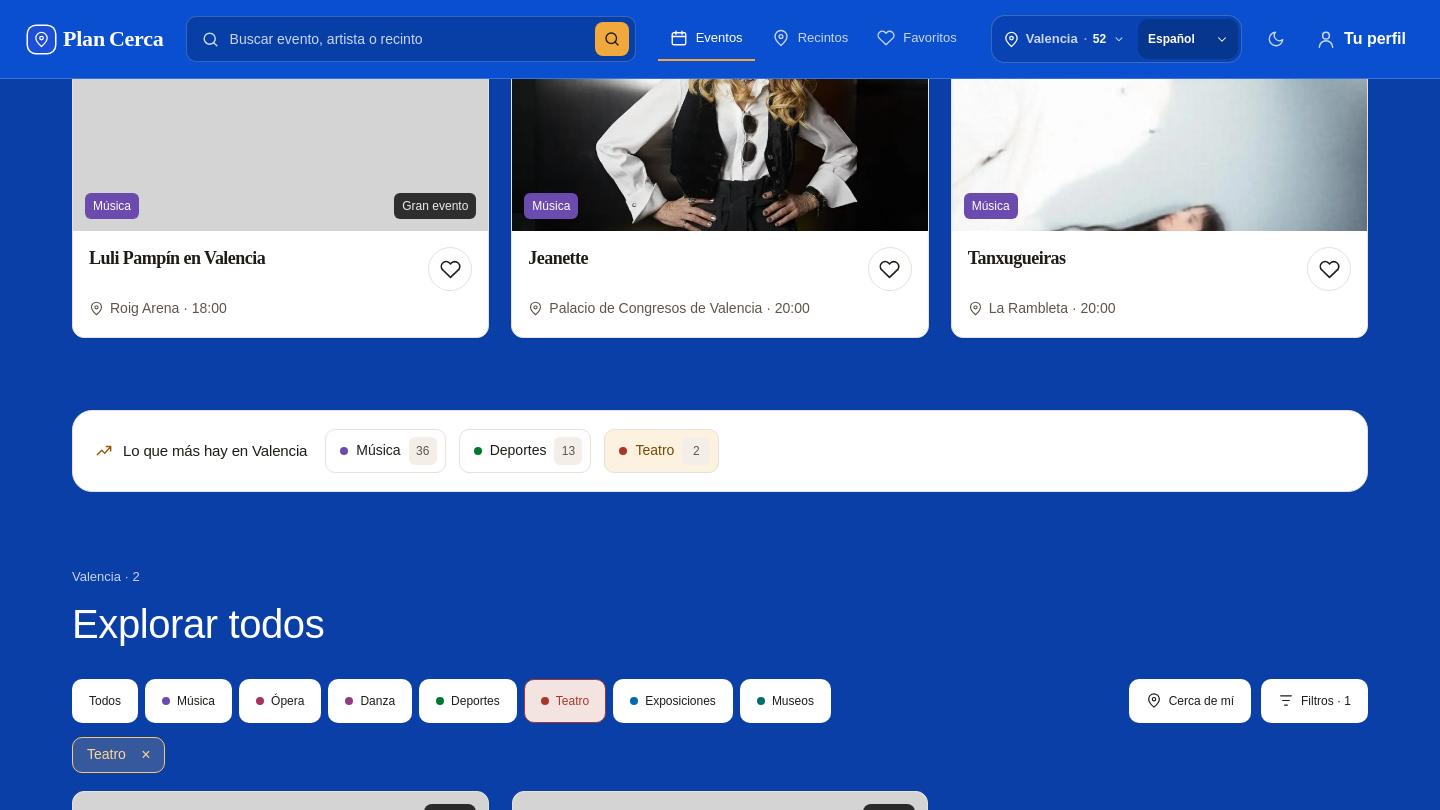
it: «Lo que más hay» shortcuts › apply that category alone (replacing others) in one step
The width and height of the screenshot is (1440, 810).
(page scrolled)
Step 1. Click the button "Música 36" → (386, 451), box [325,429,446,473]
(page scrolled)
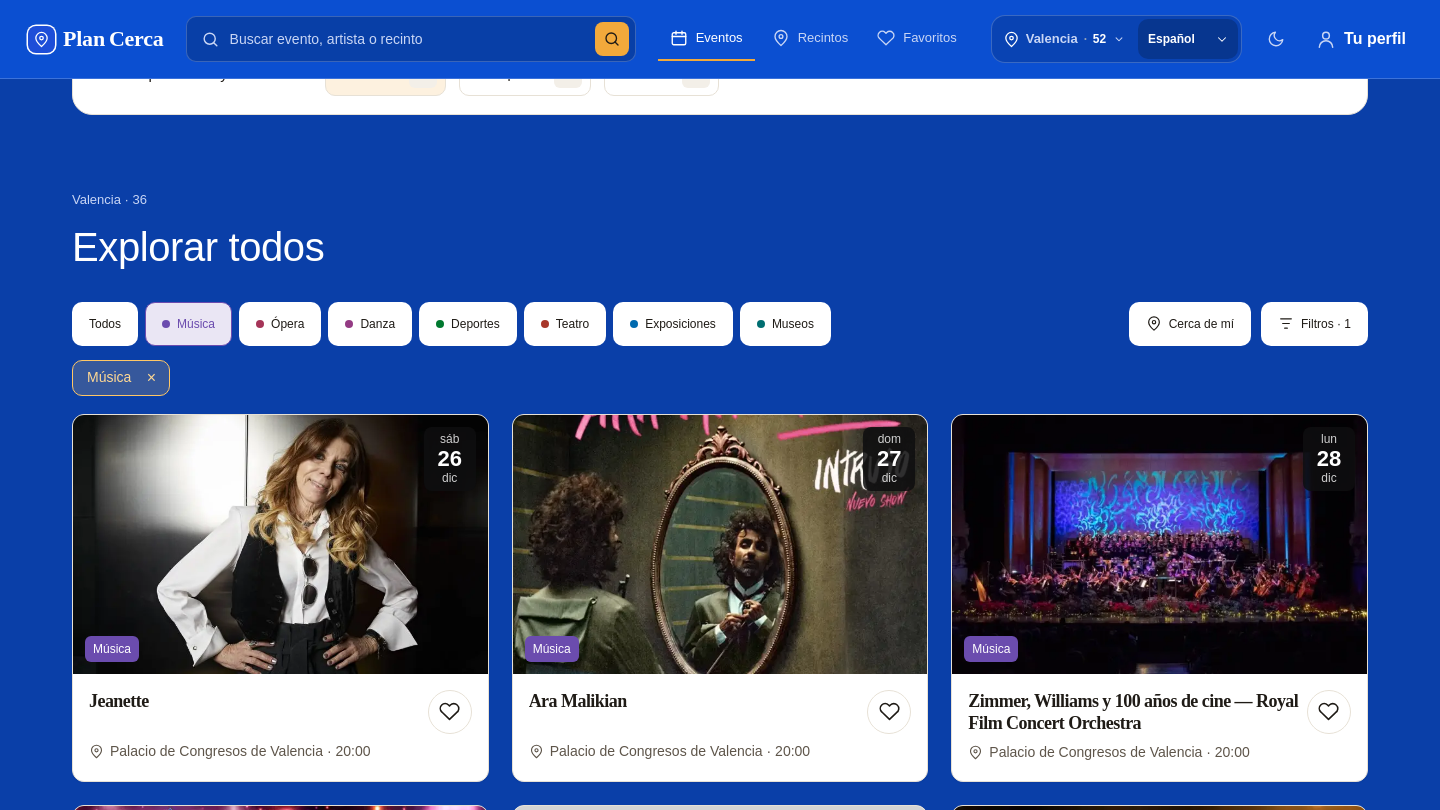
Expected: the button with aria-label "Quitar filtro: Música" is shown, [72,360,170,396]
